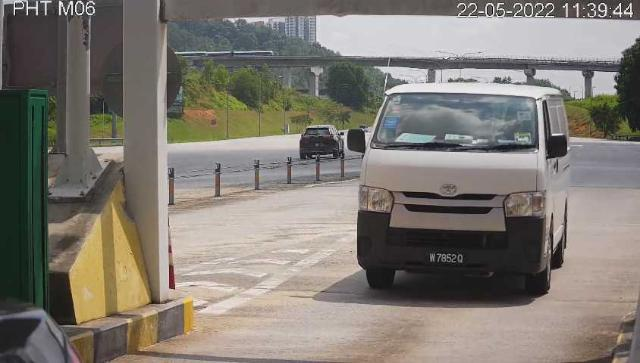License_Plate: (425, 250, 467, 270)
van: (357, 85, 569, 294)
